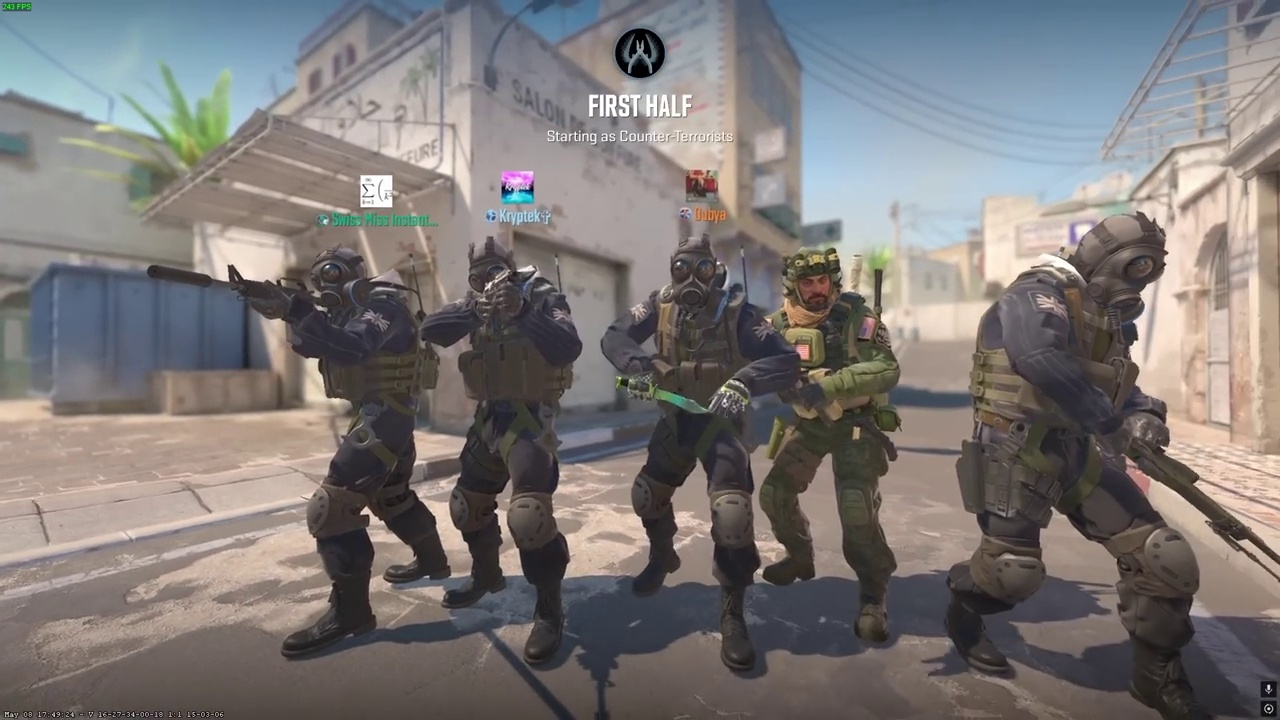CT: (944, 211, 1202, 707), (265, 243, 450, 657), (611, 232, 784, 674), (422, 235, 583, 659), (758, 246, 898, 643)
